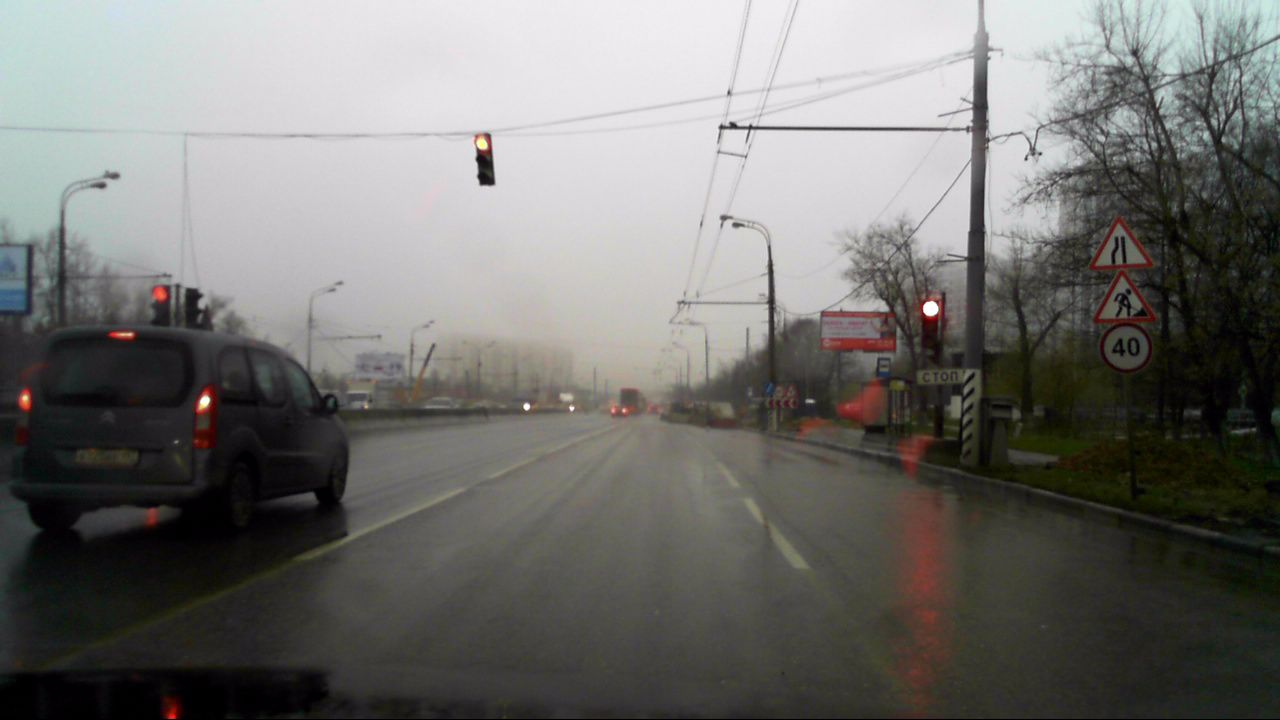speed_warning_40: (1102, 324, 1150, 371)
